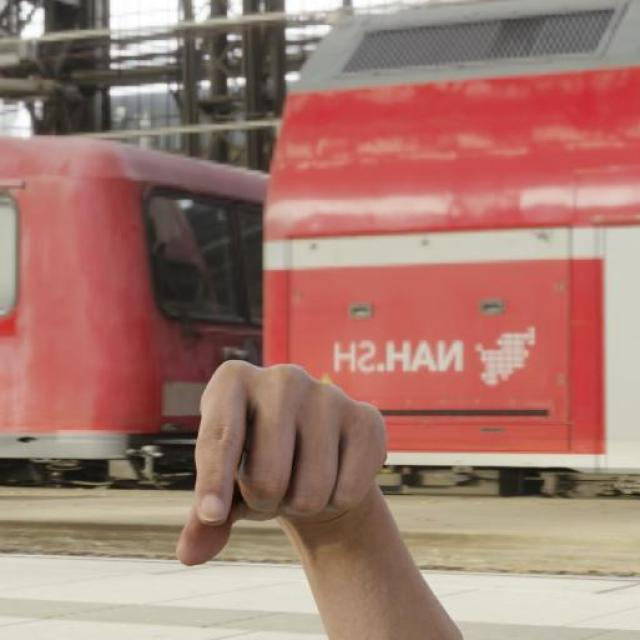Q: (170, 357, 392, 573)
